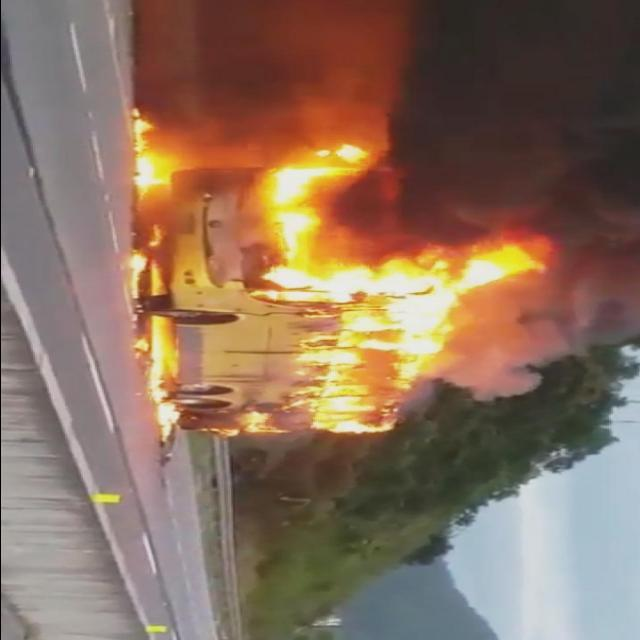Fire: (257, 246, 541, 434), (262, 140, 364, 246), (128, 97, 175, 200), (150, 320, 178, 444), (210, 409, 288, 435), (126, 250, 148, 302), (150, 262, 170, 298), (148, 222, 164, 246)
